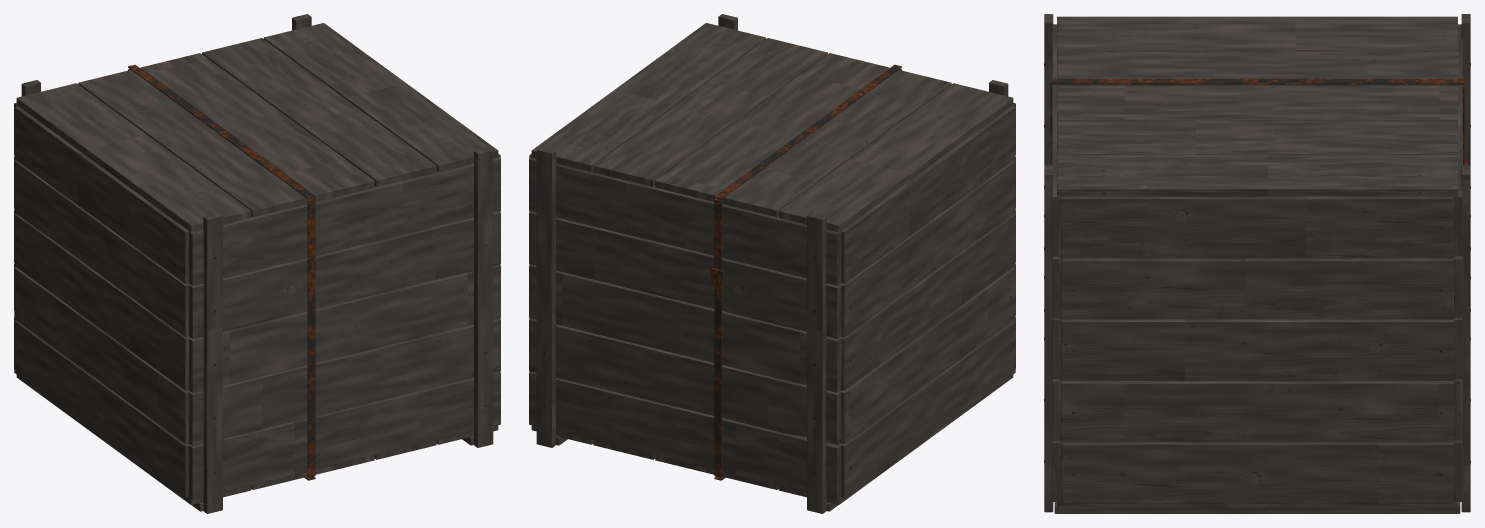
Rendered from SM_timber_shipping_crate_8b7f442aee.fbx.
3 renders of one model, left to right at view 1: azimuth 30°, elevation 25°; view 2: azimuth 150°, elevation 25°; view 3: azimuth 270°, elevation 25°, orthographic. The views are drawn at different scales.
Visible parts, largest first — view 1: SM_timber_shipping_crate_8b7f442aee; view 2: SM_timber_shipping_crate_8b7f442aee; view 3: SM_timber_shipping_crate_8b7f442aee.
Part boxes in pixels (box(x1,y1,x2,y2)): SM_timber_shipping_crate_8b7f442aee: box(14, 14, 500, 513); SM_timber_shipping_crate_8b7f442aee: box(529, 14, 1015, 513); SM_timber_shipping_crate_8b7f442aee: box(1044, 14, 1470, 513).
Size of what is drawn, in the model's own units: 106 by 108 by 94.9.
Materials: 2 (2 with a texture image).
